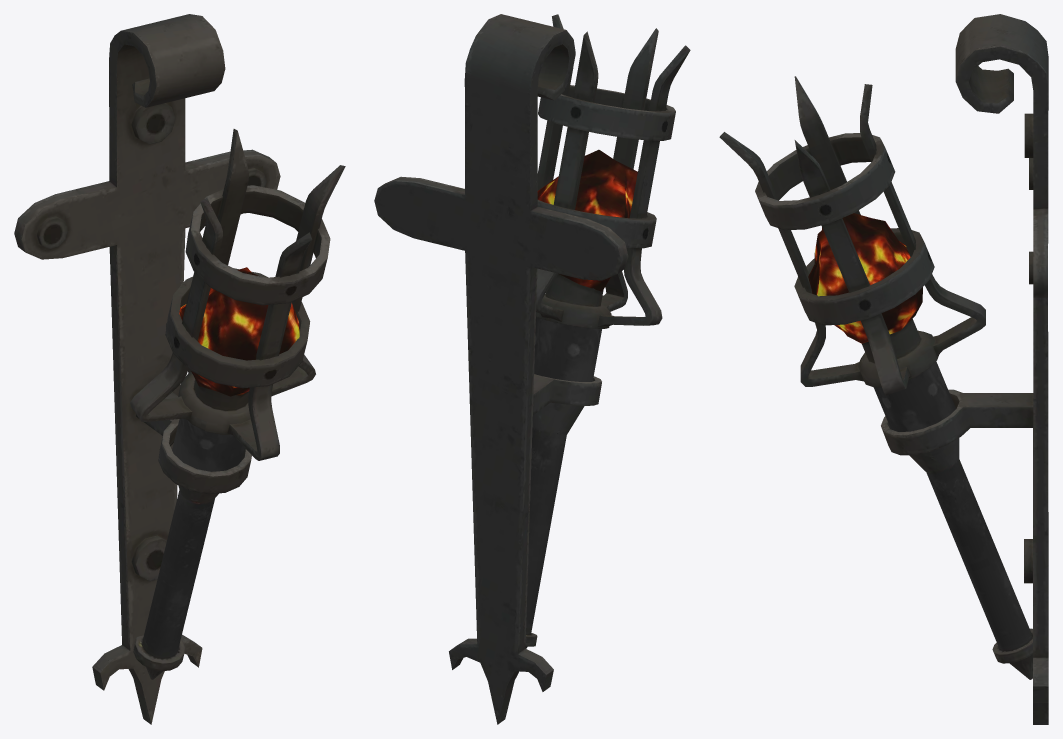
The model's file is مشعل اسود.glb.
The picture shows the model from 3 angles, left to right: view 1: azimuth 30°, elevation 25°; view 2: azimuth 150°, elevation 25°; view 3: azimuth 270°, elevation 25°; orthographic projection. The views are drawn at different scales.
Parts seen in each view (by area): view 1: torchholder, torch_2; view 2: torchholder, torch_2; view 3: torch_2, torchholder.
Part boxes in pixels (<box>): torchholder: <box>14,14,280,724</box>; torch_2: <box>130,129,345,679</box>; torchholder: <box>374,14,628,724</box>; torch_2: <box>525,14,690,648</box>; torch_2: <box>719,76,1032,679</box>; torchholder: <box>881,14,1048,724</box>.
Bounding box in the file's own units: 40.86 × 108 × 46.21.
1 material, 1 textured.
